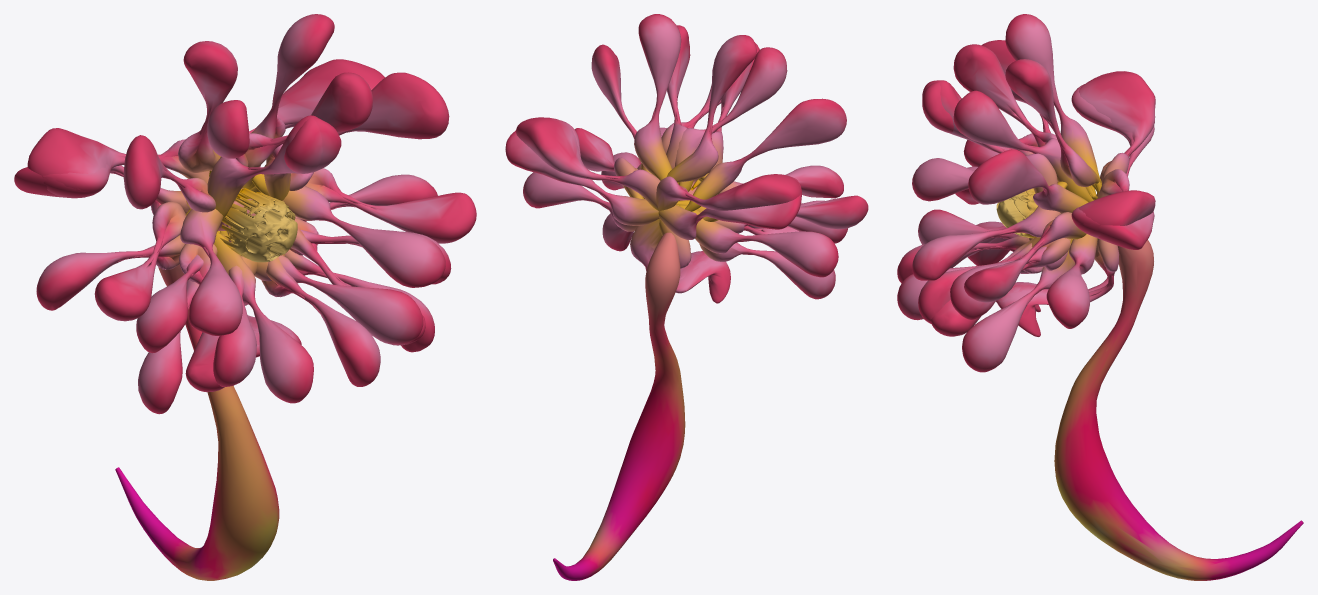
3 renders of one model, left to right at view 1: azimuth 30°, elevation 25°; view 2: azimuth 150°, elevation 25°; view 3: azimuth 270°, elevation 25°, orthographic. The views are drawn at different scales.
Visible parts, largest first — view 1: LOD 2_6177960798552739207_21c40791c56367b44a9c269bf2c0023c; view 2: LOD 2_6177960798552739207_21c40791c56367b44a9c269bf2c0023c; view 3: LOD 2_6177960798552739207_21c40791c56367b44a9c269bf2c0023c.
Boxes of the visible parts, x1,y1,x2,y2 form: LOD 2_6177960798552739207_21c40791c56367b44a9c269bf2c0023c: (14, 14, 476, 580); LOD 2_6177960798552739207_21c40791c56367b44a9c269bf2c0023c: (505, 14, 868, 580); LOD 2_6177960798552739207_21c40791c56367b44a9c269bf2c0023c: (897, 14, 1303, 580).
Bounding box in the file's own units: 1.48 × 2.24 × 1.56.
